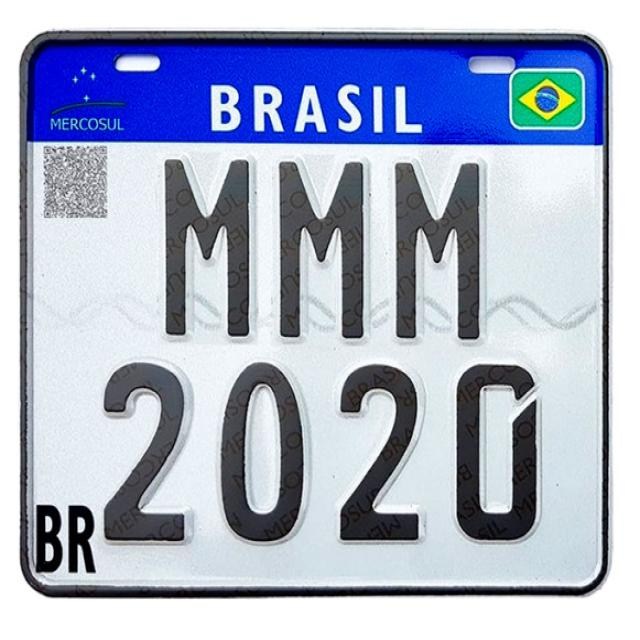Placa_mercosul_carro: (27, 39, 600, 585)
